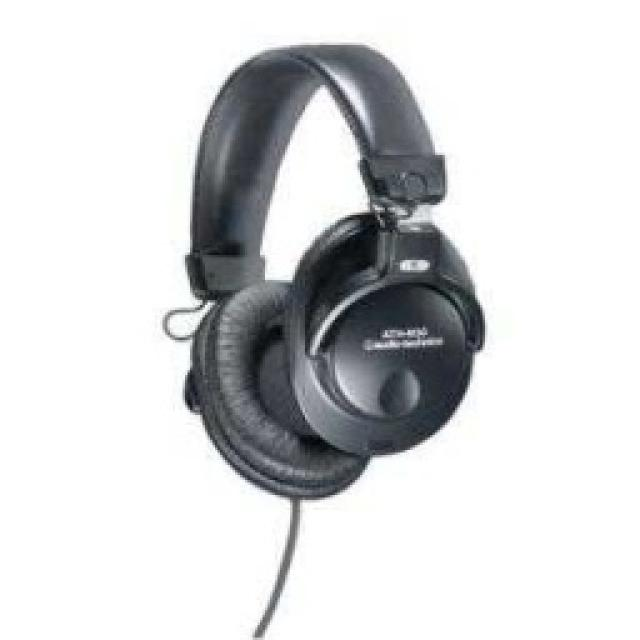headphones: (170, 38, 488, 500)
